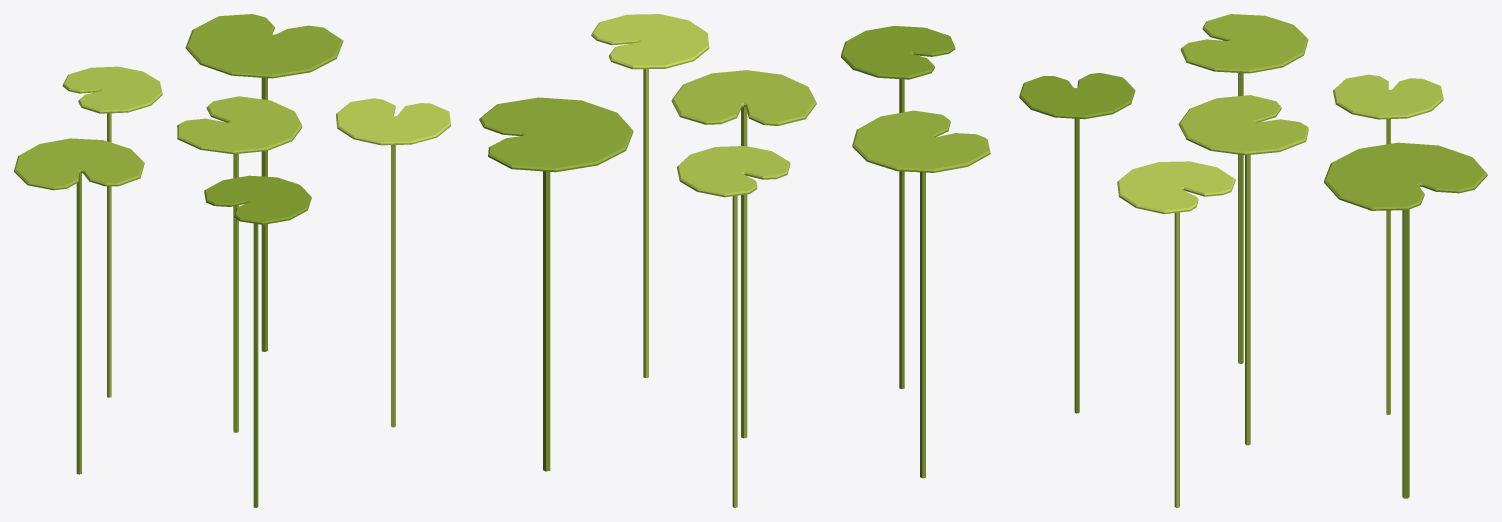
The model's file is NHP_LilyPad_LP_Cluster_A1_01.fbx.
3 views of the same model, side by side, from view 1: azimuth 30°, elevation 25°; view 2: azimuth 150°, elevation 25°; view 3: azimuth 270°, elevation 25° (orthographic). The views are drawn at different scales.
Parts seen in each view (by area): view 1: NHP_LilyPad_LP_Cluster_A1_01_LOD0; view 2: NHP_LilyPad_LP_Cluster_A1_01_LOD0; view 3: NHP_LilyPad_LP_Cluster_A1_01_LOD0.
Boxes of the visible parts, <box> form: NHP_LilyPad_LP_Cluster_A1_01_LOD0: <box>14,14,450,507</box>; NHP_LilyPad_LP_Cluster_A1_01_LOD0: <box>479,14,990,507</box>; NHP_LilyPad_LP_Cluster_A1_01_LOD0: <box>1019,14,1487,507</box>.
Size of what is drawn, in the model's own units: 2.67 by 2.01 by 2.66.
